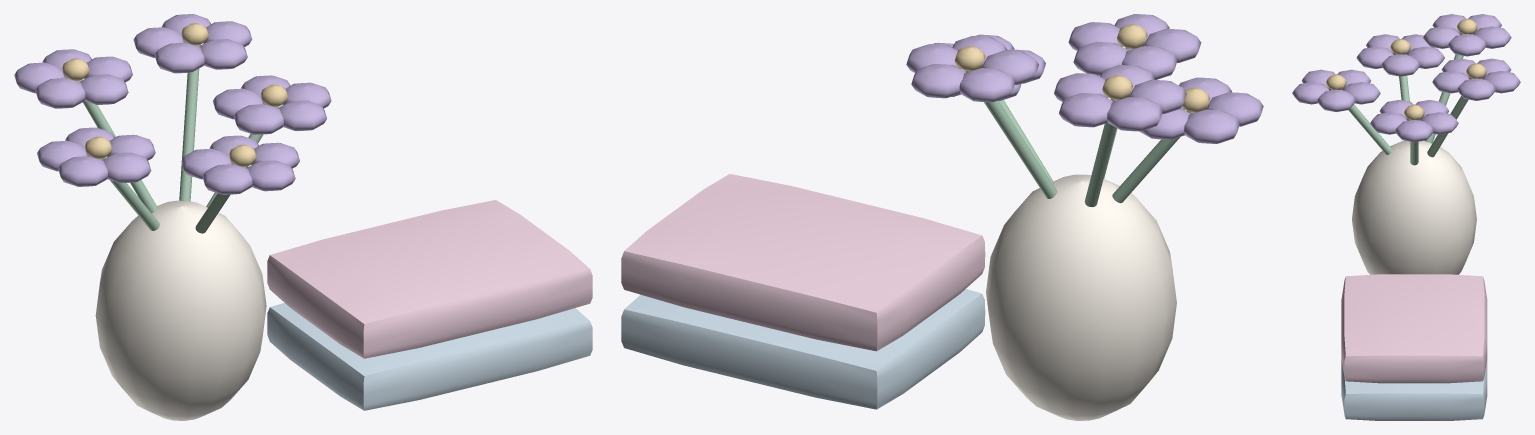
The model's file is tabletop_decor.glb.
3 renders of one model, left to right at view 1: azimuth 30°, elevation 25°; view 2: azimuth 150°, elevation 25°; view 3: azimuth 270°, elevation 25°, orthographic. The views are drawn at different scales.
Visible parts, largest first — view 1: book (×2), vase, flower petal (×25), flower stem (×4); view 2: book (×2), vase, flower petal (×19), flower stem (×3), flower center (×3); view 3: book (×2), vase, flower petal (×25), flower center (×5), flower stem (×3).
Part boxes in pixels (x1=…): book (×2): x1=267, y1=200, x2=592, y2=410; vase: x1=95, y1=200, x2=266, y2=420; flower petal (×25): x1=14, y1=14, x2=331, y2=194; flower stem (×4): x1=77, y1=44, x2=248, y2=233; book (×2): x1=621, y1=174, x2=985, y2=409; vase: x1=986, y1=174, x2=1176, y2=420; flower petal (×19): x1=906, y1=14, x2=1263, y2=143; flower stem (×3): x1=964, y1=71, x2=1193, y2=207; flower center (×3): x1=954, y1=24, x2=1147, y2=100; book (×2): x1=1341, y1=274, x2=1487, y2=420; vase: x1=1352, y1=140, x2=1476, y2=274; flower petal (×25): x1=1292, y1=14, x2=1520, y2=142; flower center (×5): x1=1326, y1=18, x2=1486, y2=120; flower stem (×3): x1=1341, y1=75, x2=1471, y2=157.
Bounding box in the file's own units: 0.8157 × 0.53 × 0.4386.
